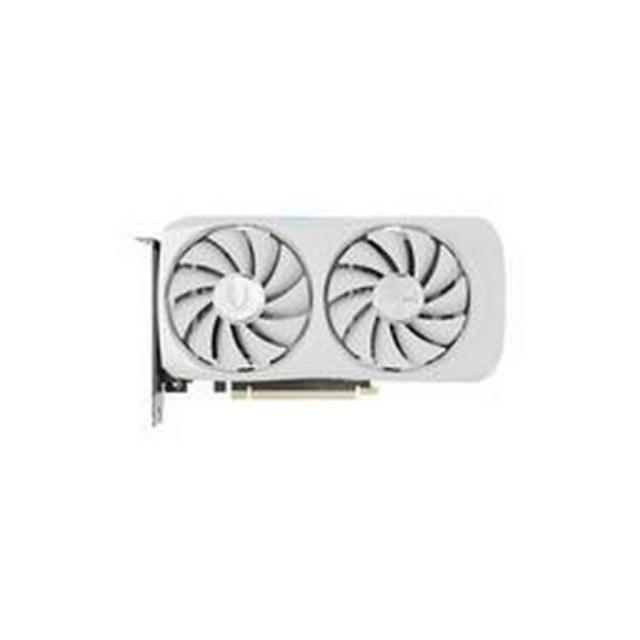GPU: (138, 207, 513, 416)
